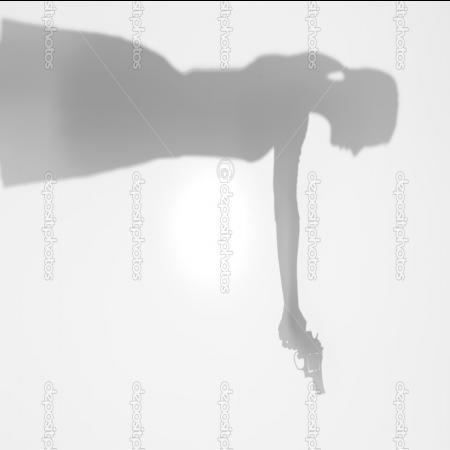Pistol: (279, 317, 331, 400)
